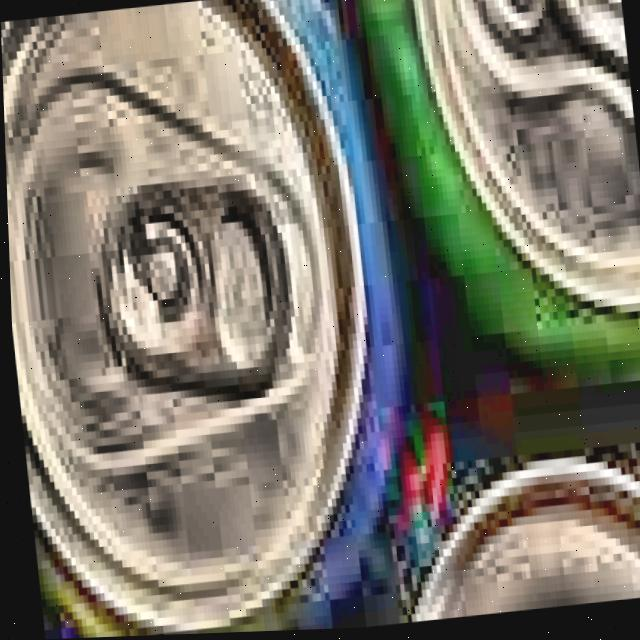metal: (0, 0, 433, 640), (356, 0, 640, 425), (331, 428, 640, 631)
